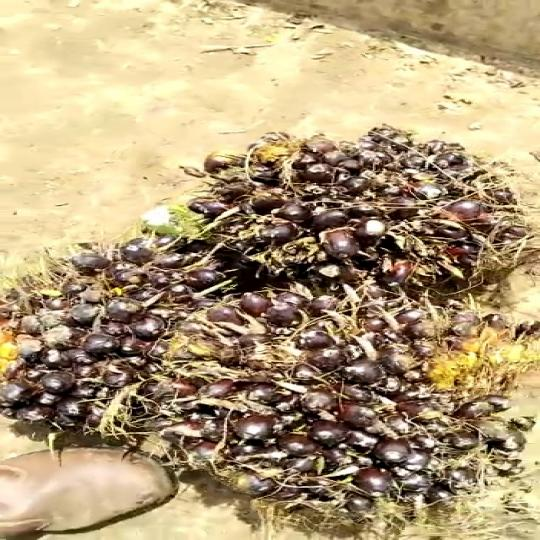mentah: (127, 272, 540, 528), (158, 112, 540, 300), (0, 230, 281, 478)
